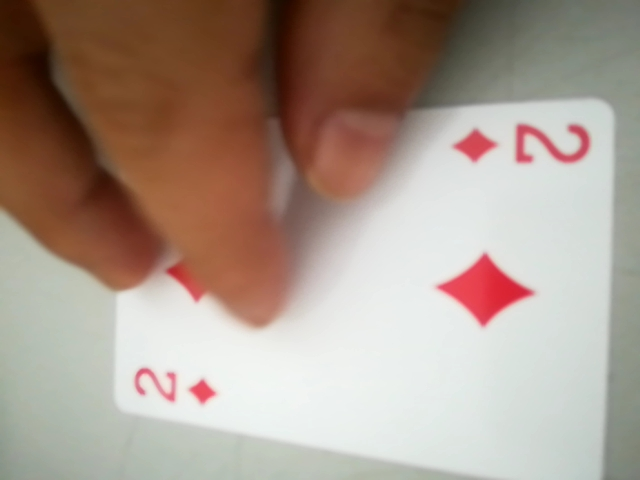fk 2: (438, 106, 598, 179), (122, 355, 231, 418)
